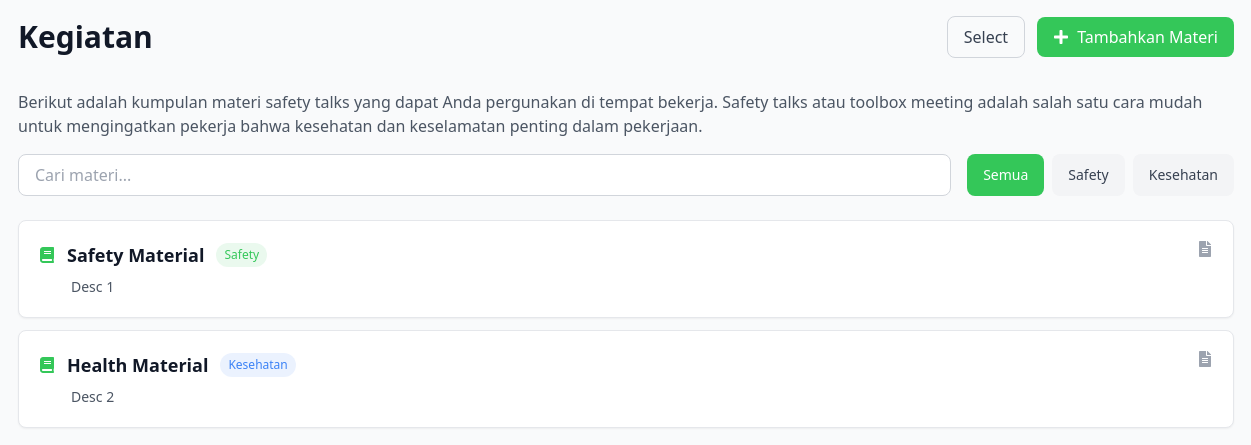
Test: Kegiatan Component › should search materials
Expected: the heading "Safety Material" is shown, left=67, top=241, right=204, bottom=269
Expected: the heading "Health Material" is shown, left=67, top=351, right=208, bottom=379
In the field with placeholder "Cari materi...": [485, 175] box left=18, top=154, right=951, bottom=196, type "Safety"
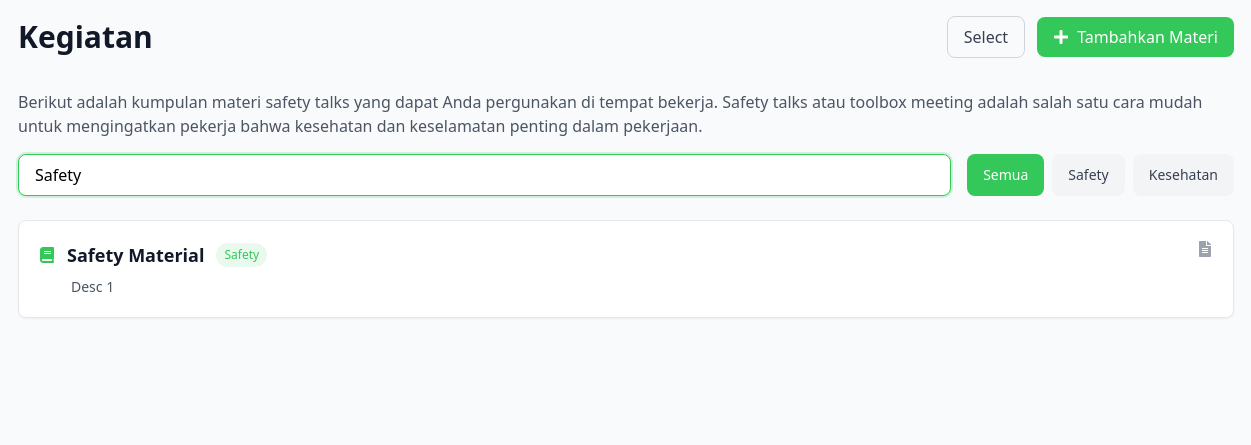
Expected: the heading "Safety Material" is shown, left=67, top=241, right=204, bottom=269
Result: the heading "Health Material" is gone
